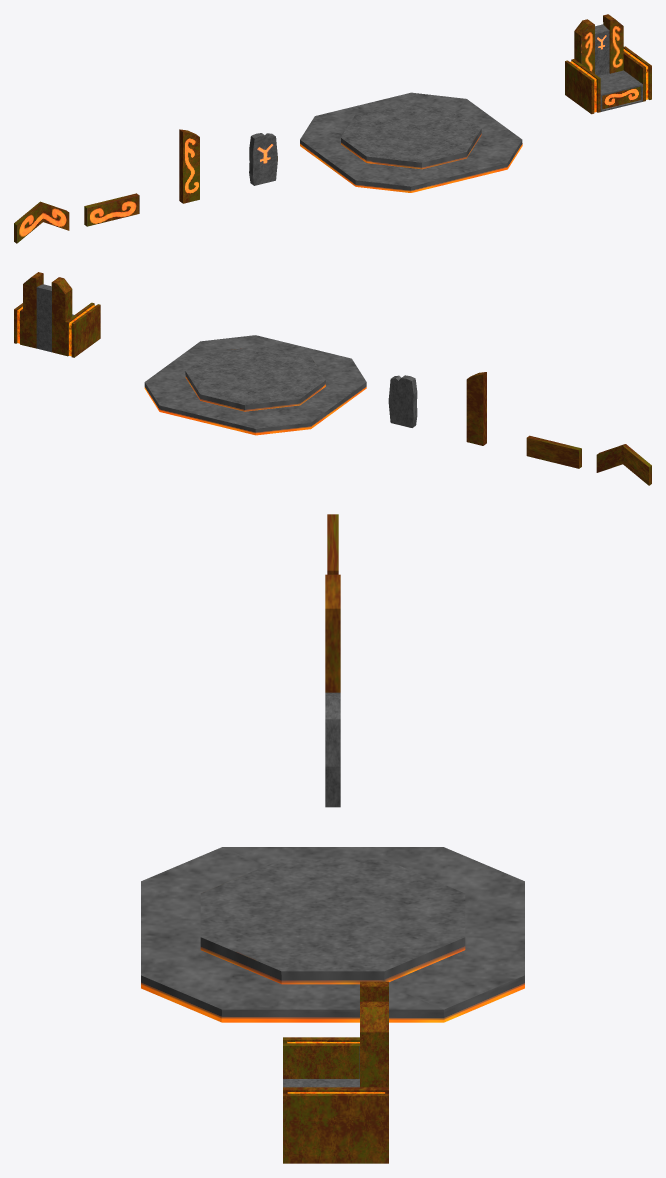
File: throne.fbx
3 renders of one model, top to bottom at view 1: azimuth 30°, elevation 25°; view 2: azimuth 150°, elevation 25°; view 3: azimuth 270°, elevation 25°, orthographic. The views are drawn at different scales.
Visible parts, largest first — view 1: StoneStair, Throne, Drawing1, Inscription, Drawing3, Drawing2; view 2: StoneStair, Throne, Drawing1, Inscription, Drawing3, Drawing2; view 3: StoneStair, Throne, Drawing1, Inscription.
Boxes of the visible parts, <box> form: StoneStair: <box>300,92,522,192</box>; Throne: <box>565,14,651,114</box>; Drawing1: <box>179,129,199,203</box>; Inscription: <box>249,133,277,185</box>; Drawing3: <box>14,201,69,243</box>; Drawing2: <box>84,193,139,226</box>; StoneStair: <box>144,335,366,435</box>; Throne: <box>14,272,100,357</box>; Drawing1: <box>466,372,486,445</box>; Inscription: <box>388,375,417,427</box>; Drawing3: <box>596,444,651,485</box>; Drawing2: <box>526,435,581,468</box>; StoneStair: <box>141,847,524,1022</box>; Throne: <box>283,981,388,1163</box>; Drawing1: <box>325,574,340,692</box>; Inscription: <box>325,692,340,807</box>.
Size of the model in its own units: 14.97 by 1.64 by 4.
